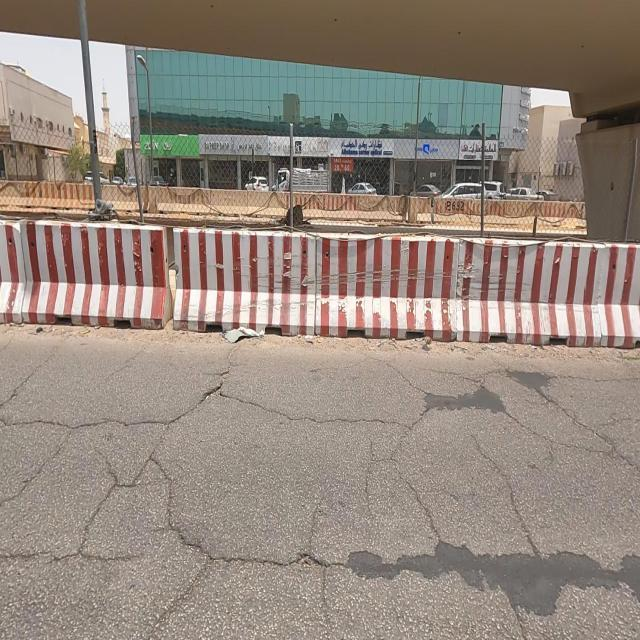debris: (192, 300, 266, 376)
